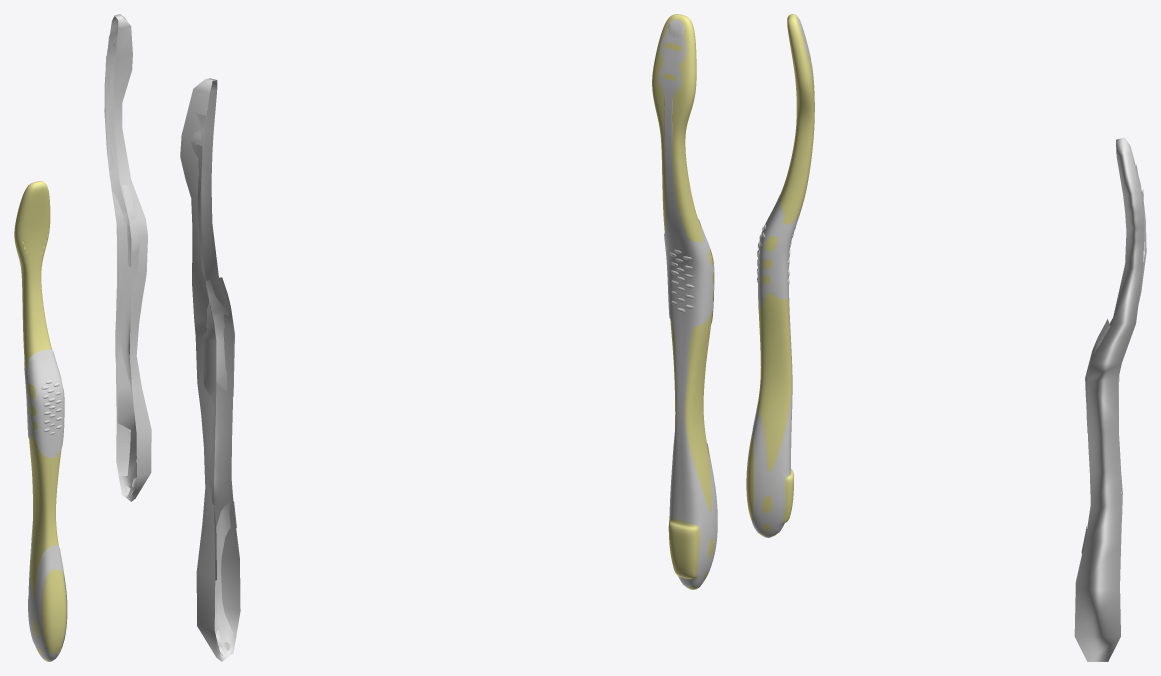
File: uploads_files_4148571_brush+model++fbx.fbx
The picture shows the model from 3 angles, left to right: view 1: azimuth 30°, elevation 25°; view 2: azimuth 150°, elevation 25°; view 3: azimuth 270°, elevation 25°; orthographic projection. The views are drawn at different scales.
Visible parts, largest first — view 1: Cube.001, Cube, Plane.001, Plane, Plane.009; view 2: Cube, Plane.001, Cube.001, Plane; view 3: Cube, Cube.001, Plane.001, Plane.
Boxes of the visible parts, box(x1,y1,x2,y2) form: Cube.001: box(14, 181, 66, 661); Cube: box(105, 14, 151, 501); Plane.001: box(24, 349, 67, 661); Plane: box(104, 17, 139, 497); Plane.009: box(41, 380, 62, 434); Cube: box(180, 78, 240, 661); Plane.001: box(658, 19, 717, 589); Cube.001: box(652, 14, 713, 589); Plane: box(190, 83, 236, 656); Cube: box(1074, 137, 1144, 661); Cube.001: box(746, 14, 814, 536); Plane.001: box(752, 17, 814, 537); Plane: box(1081, 143, 1146, 555).
Size of the model in its own units: 397 by 686 by 474.
